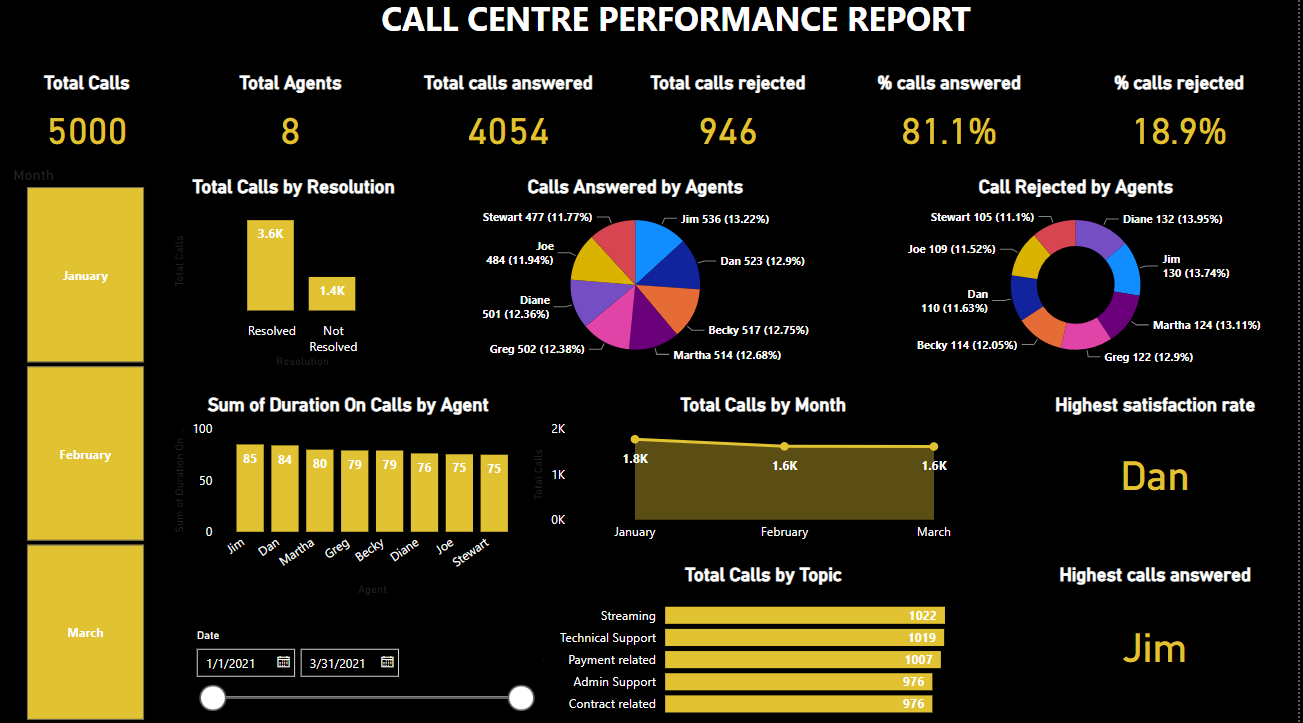

The dashboard page shown, as its layout file describes it:
{"tool":"powerbi","page":{"name":"Summery","canvas":[1280,720],"ordinal":0},"visuals":[{"type":"card","title":"Total Calls","fields":{"Values":["Performance.Total Calls"]},"box":[0,79.3,189.3,87.4],"z":0},{"type":"card","title":"Total Agents","fields":{"Values":["Performance.Agent"]},"box":[189.3,79.3,208.7,87.4],"z":1000},{"type":"card","title":"Total calls answered","fields":{"Values":["Performance.Calls Answered"]},"box":[398,79.3,216.8,87.4],"z":2000},{"type":"card","title":"Total calls rejected","fields":{"Values":["Performance.Call Rejected"]},"box":[614.8,79.3,213.6,87.4],"z":3000},{"type":"card","title":"% calls answered","fields":{"Values":["Performance.% calls answered"]},"box":[828.4,79.3,218.4,87.4],"z":4000},{"type":"card","title":"% calls rejected","fields":{"Values":["Performance.% calls rejected"]},"box":[1046.8,79.3,233,87.4],"z":5000},{"type":"columnChart","fields":{"Y":["Performance.Total Calls"],"Category":["Performance.Resolution"]},"box":[174.7,181.2,244.3,192.5],"z":6000},{"type":"card","title":"Highest calls answered","fields":{"Values":["Performance.Agent"]},"box":[998.3,559.8,281.5,135.9],"z":7000},{"type":"card","title":"Highest satisfaction rate","fields":{"Values":["Performance.Agent"]},"box":[998.3,393.2,281.5,132.7],"z":8000},{"type":"barChart","fields":{"Category":["Performance.Topic"],"Y":["Performance.Total Calls"]},"box":[525.8,559.8,461.1,160.2],"z":9000},{"type":"columnChart","fields":{"Y":["Performance.Duration On Calls"],"Category":["Performance.Agent"]},"box":[174.7,393.2,351.1,202.2],"z":10000},{"type":"areaChart","fields":{"Y":["Performance.Total Calls"],"Category":["Performance.Date.Variation.Date Hierarchy.Month"]},"box":[525.8,393.2,461.1,153.7],"z":11000},{"type":"slicer","fields":{"Values":["Performance.Date.Variation.Date Hierarchy.Month"]},"box":[0,166.7,127.8,553.3],"z":12000},{"type":"slicer","fields":{"Values":["Performance.Date"]},"box":[189.3,618.1,351.1,101.9],"z":13000},{"type":"pieChart","title":"Calls Answered by Agents","fields":{"Y":["Performance.Calls Answered"],"Category":["Performance.Agent"]},"box":[419.1,181.2,423.9,192.5],"z":14000},{"type":"slicer","fields":{"Values":["Performance.Date.Variation.Date Hierarchy.Month"]},"box":[10,166.7,165,553.3],"z":15000},{"type":"donutChart","title":"Call Rejected by Agents","fields":{"Category":["Performance.Agent"],"Y":["Performance.Call Rejected"]},"box":[843,181.2,436.9,192.5],"z":16000},{"type":"textbox","box":[354.3,0,632.6,66.3],"z":17000}]}

Visuals, with their boxes in screenshot pixels (x1, y1, x2, y2), scaled from the page's 1280x720 canvas onto the 1303x723 screenshot:
"Total Calls" card: <region>0, 80, 193, 167</region>
"Total Agents" card: <region>193, 80, 405, 167</region>
"Total calls answered" card: <region>405, 80, 626, 167</region>
"Total calls rejected" card: <region>626, 80, 843, 167</region>
"% calls answered" card: <region>843, 80, 1066, 167</region>
"% calls rejected" card: <region>1066, 80, 1302, 167</region>
columnChart - Performance.Total Calls x Performance.Resolution: <region>178, 182, 427, 375</region>
"Highest calls answered" card: <region>1016, 562, 1302, 699</region>
"Highest satisfaction rate" card: <region>1016, 395, 1302, 528</region>
barChart - Performance.Topic x Performance.Total Calls: <region>535, 562, 1005, 722</region>
columnChart - Performance.Duration On Calls x Performance.Agent: <region>178, 395, 535, 598</region>
areaChart - Performance.Total Calls x Performance.Date.Variation.Date Hierarchy.Month: <region>535, 395, 1005, 549</region>
slicer - Performance.Date.Variation.Date Hierarchy.Month: <region>0, 167, 130, 722</region>
slicer - Performance.Date: <region>193, 621, 550, 722</region>
"Calls Answered by Agents" pieChart: <region>427, 182, 858, 375</region>
slicer - Performance.Date.Variation.Date Hierarchy.Month: <region>10, 167, 178, 722</region>
"Call Rejected by Agents" donutChart: <region>858, 182, 1302, 375</region>
textbox: <region>361, 0, 1005, 67</region>
